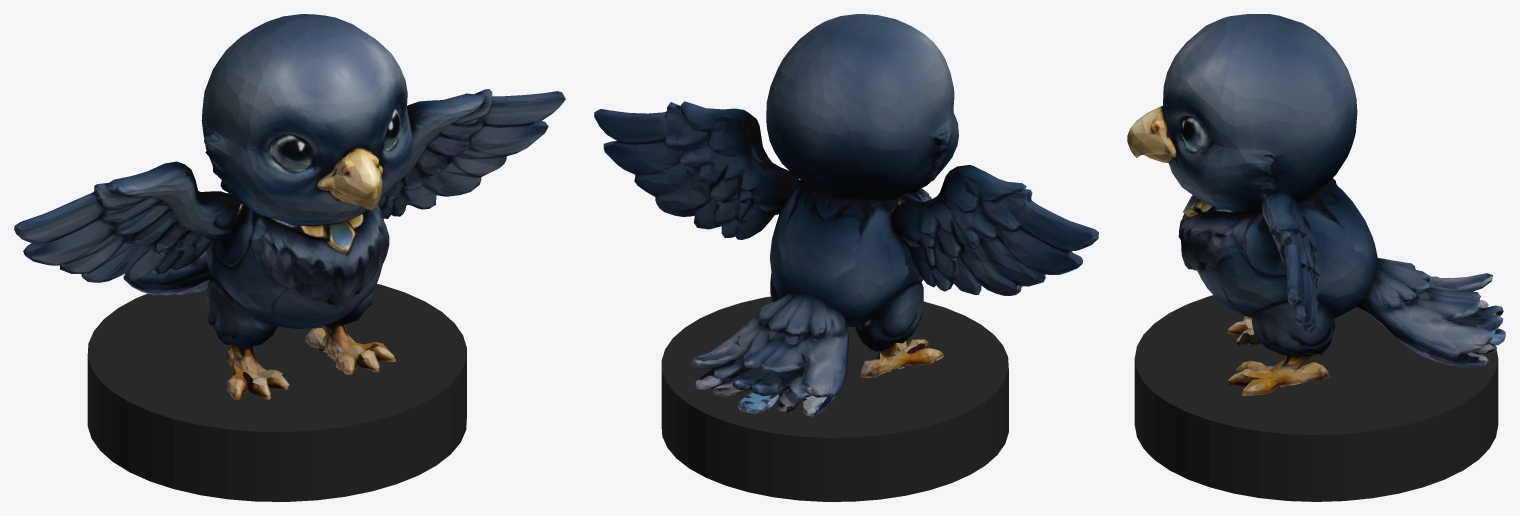
File: sce-gryph-crow.glb
3 views of the same model, side by side, from view 1: azimuth 30°, elevation 25°; view 2: azimuth 150°, elevation 25°; view 3: azimuth 270°, elevation 25° (orthographic). The views are drawn at different scales.
Parts seen in each view (by area): view 1: figure, base; view 2: figure, base; view 3: figure, base.
Boxes of the visible parts, left/top/right/bottom form: figure: left=14, top=14, right=565, bottom=399; base: left=87, top=284, right=466, bottom=501; figure: left=594, top=14, right=1098, bottom=416; base: left=661, top=296, right=1008, bottom=501; figure: left=1127, top=14, right=1505, bottom=395; base: left=1134, top=295, right=1498, bottom=501.
Bounding box in the file's own units: 0.9853 × 0.72 × 0.615.
2 materials, 1 textured.
